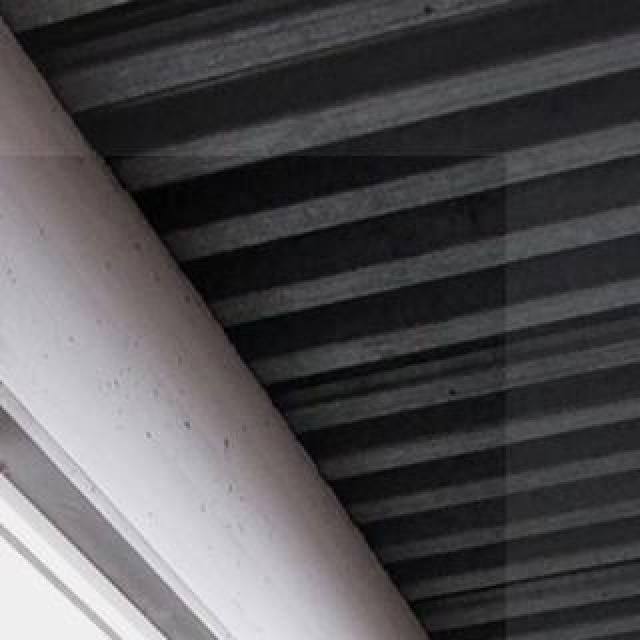fluorescent tube: (0, 168, 514, 640)
